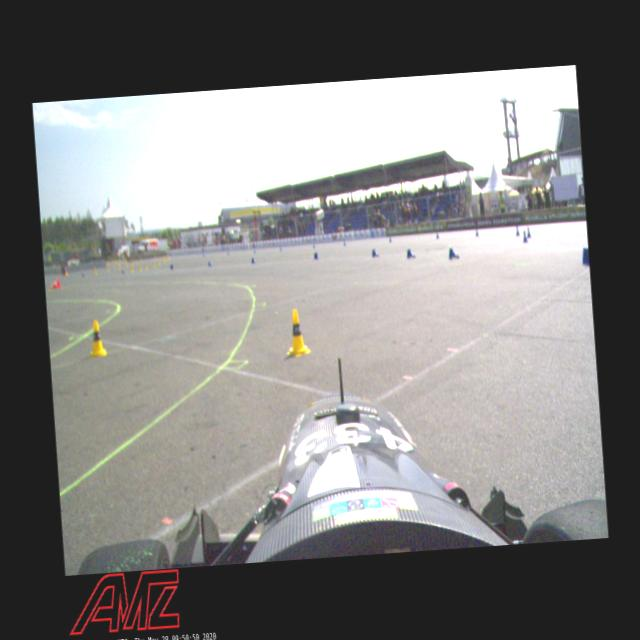blue_cone: (446, 246, 461, 262), (406, 247, 416, 260), (371, 248, 380, 258), (522, 228, 528, 242), (514, 223, 520, 236), (526, 225, 532, 238)
orange_cone: (46, 276, 61, 290)
yellow_cone: (284, 306, 310, 357), (85, 316, 108, 358)
